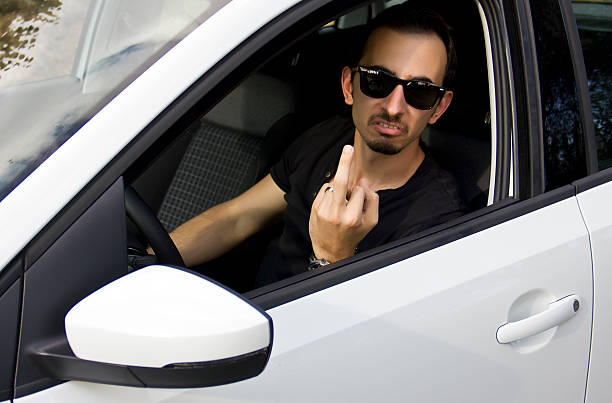insulting_gesture: (311, 146, 381, 254)
